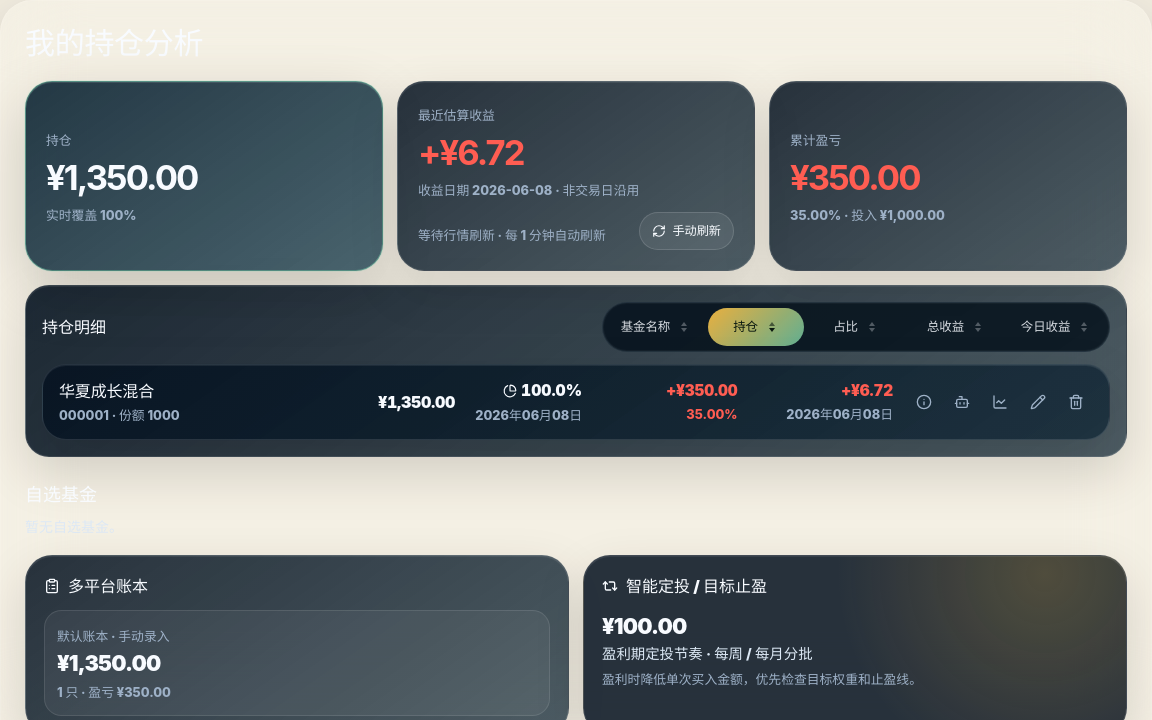
dashboard components › renders non-current daily profit, manual code detail, holding days, and holdings failure
Click the button "最近估算收益 +¥6.72 收益日期 2026-06-08 · 非交易日沿用". click: (456, 116)
box: [418,102,734,200]
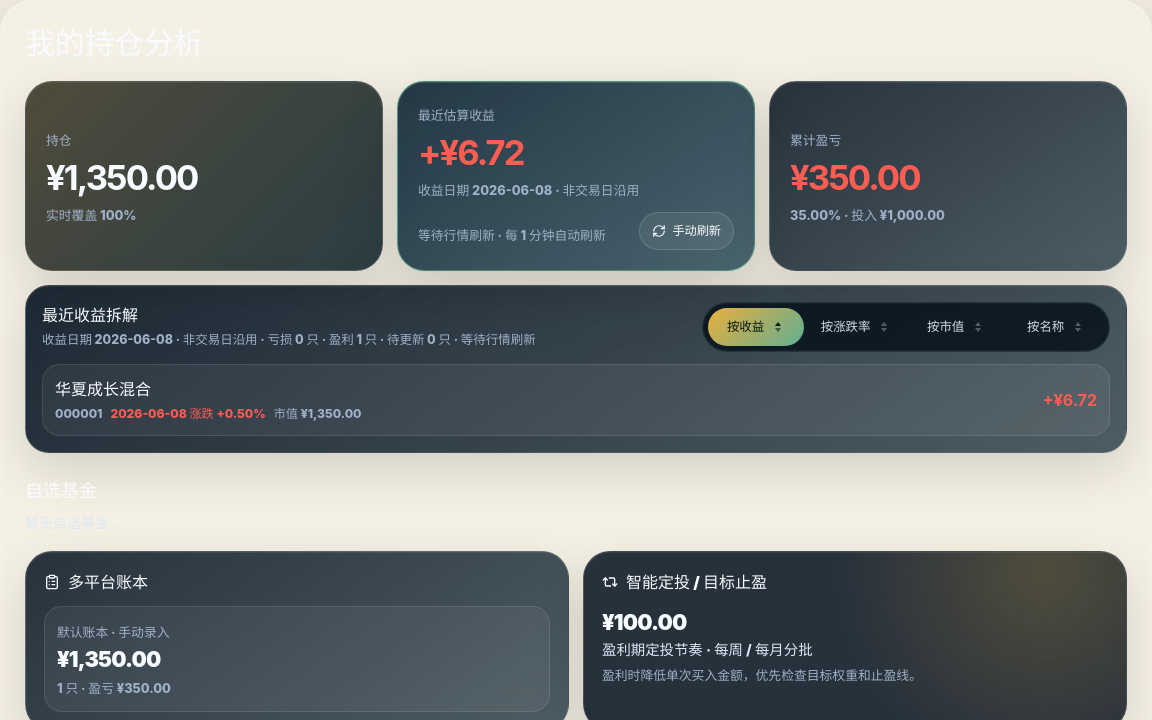
Check: the text "非交易日沿用" is shown, box [418,183,639,198]
Check: the text "最近收益拆解" is shown, box [42,305,138,325]
Click the button with class "yb-metric-card" showing "持仓 ¥1,350.00 实时覆盖 100%". click: (122, 178)
box: [25,81,383,271]
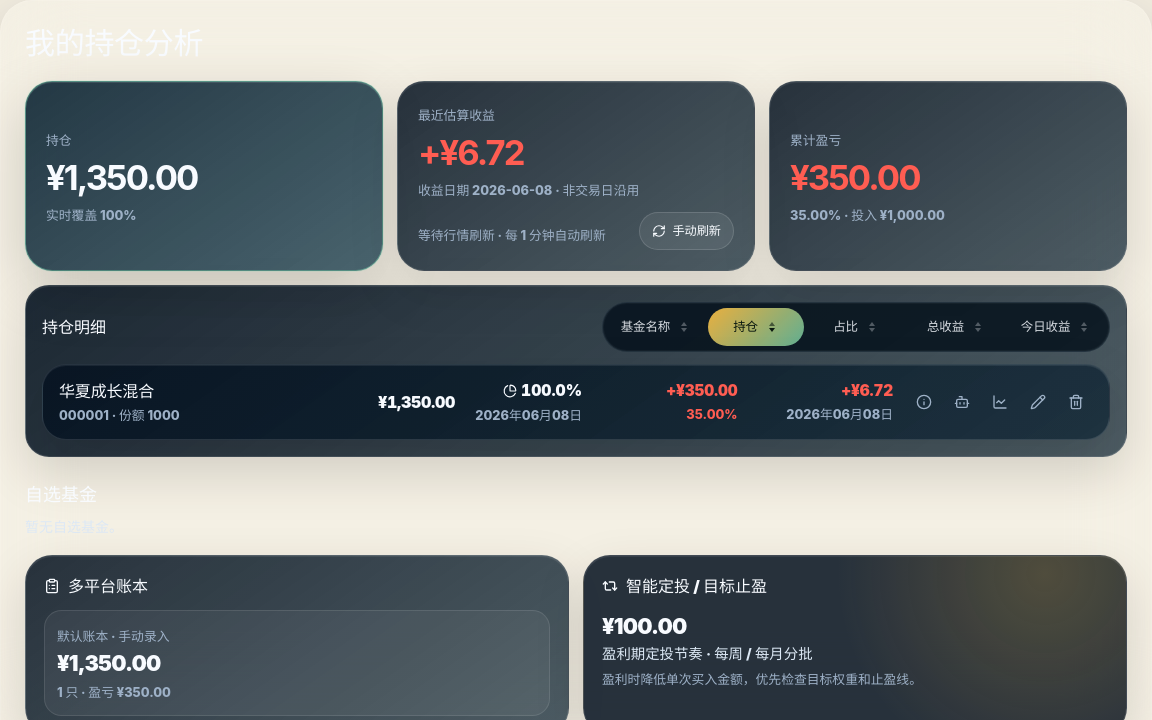
Check: the button named "华夏成长混合 持仓详情" is shown
Click the button named "华夏成长混合 持仓详情". click: (924, 402)
box: [907,385,941,419]
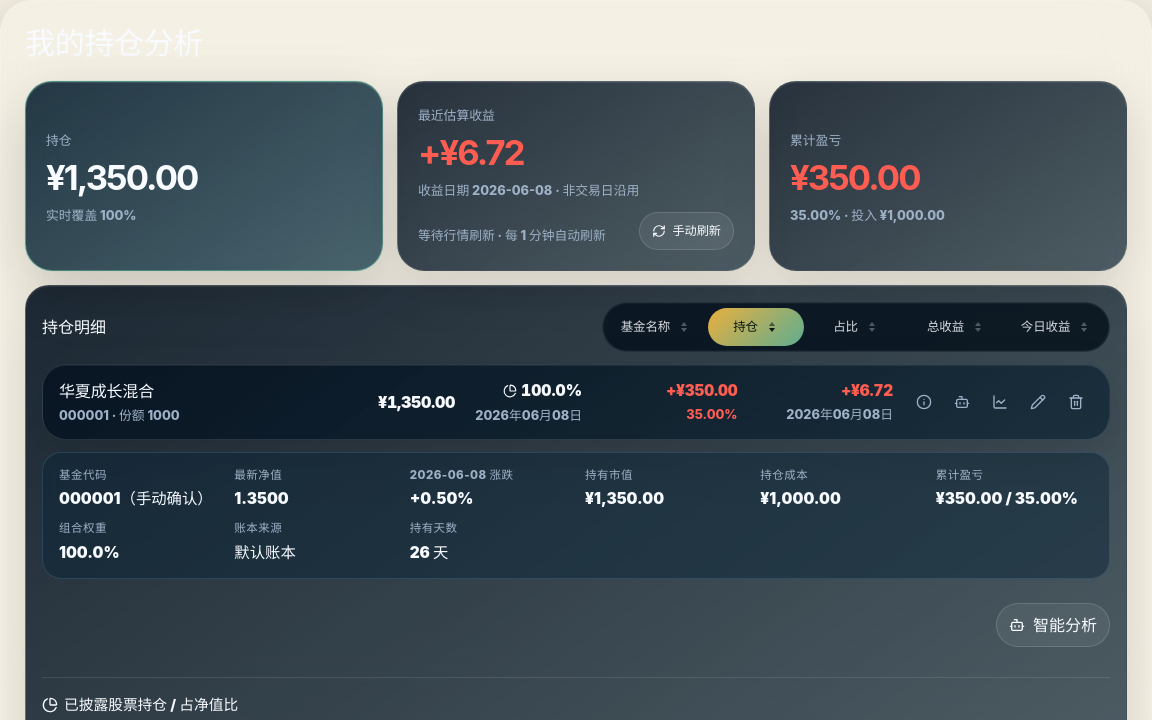
Check: the text "000001（手动确认）" is shown, box [59,487,216,510]
